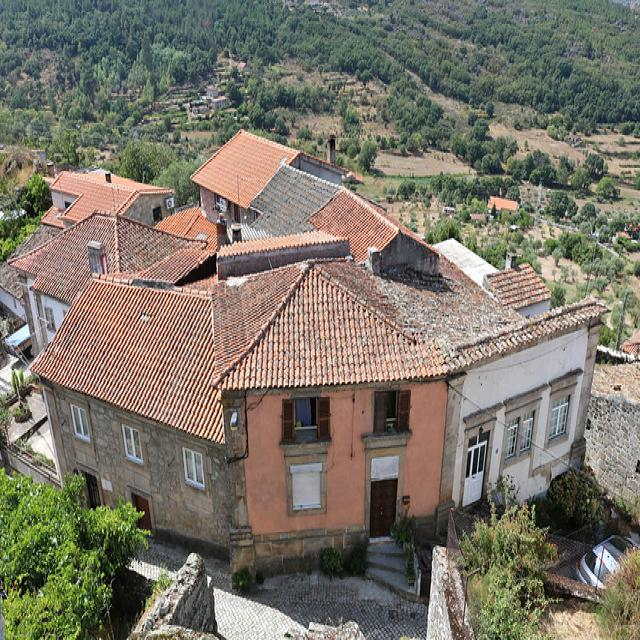building: (26, 193, 606, 583)
